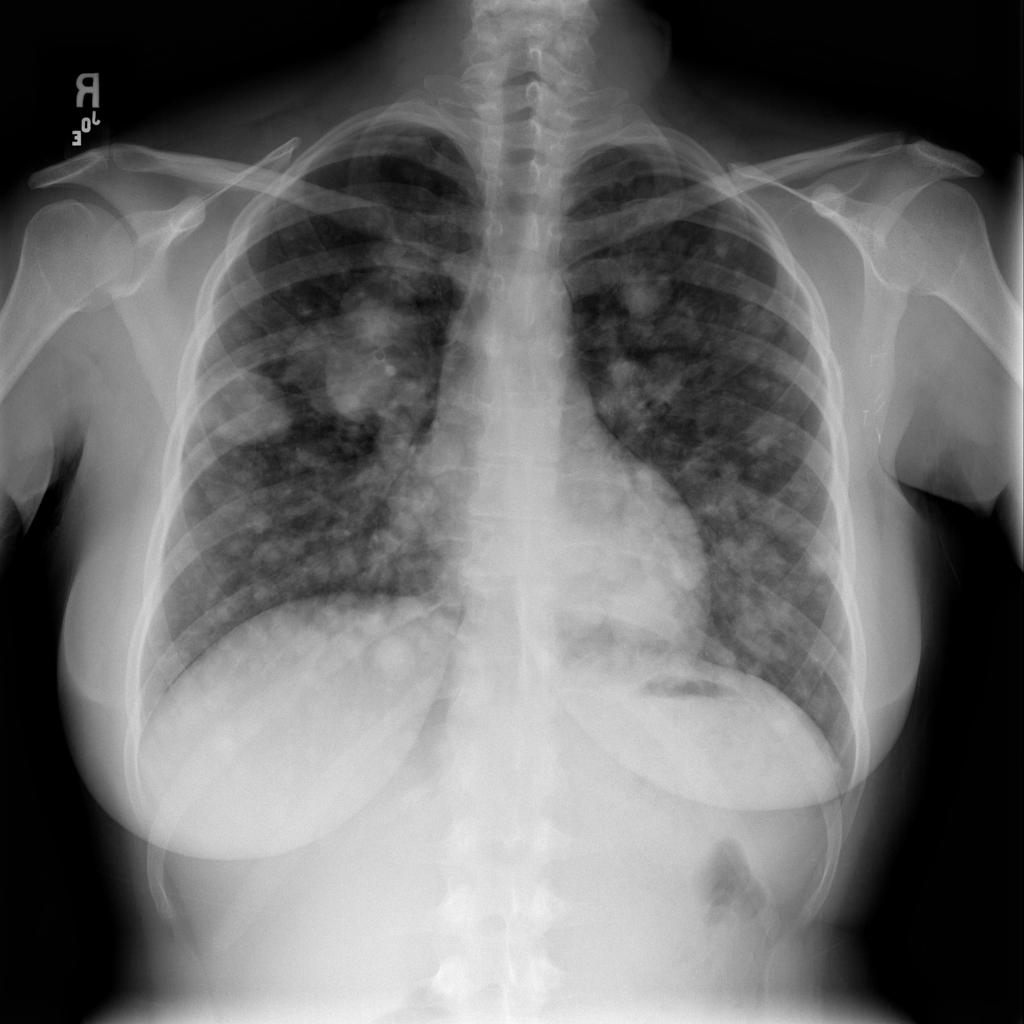nodule: (280, 278, 426, 431), (189, 353, 297, 452), (595, 351, 682, 448), (604, 569, 683, 643), (365, 620, 434, 695), (604, 262, 680, 329), (402, 424, 473, 493)
